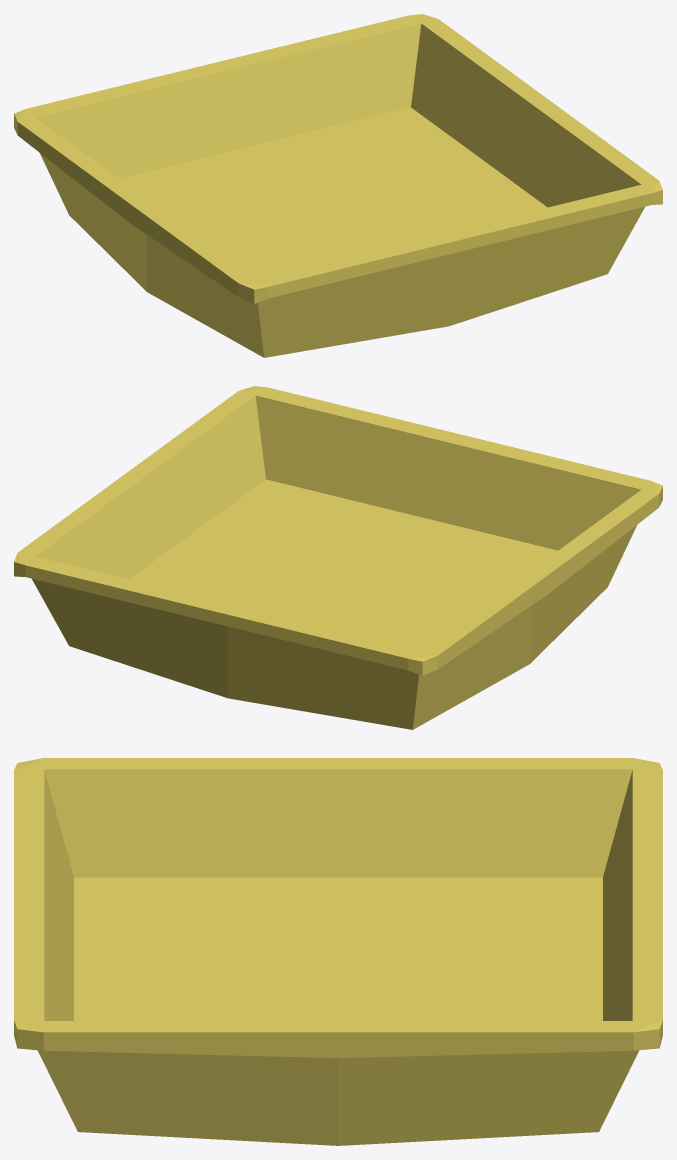
File: blekute.glb
The picture shows the model from 3 angles, top to bottom: view 1: azimuth 30°, elevation 25°; view 2: azimuth 150°, elevation 25°; view 3: azimuth 270°, elevation 25°; orthographic projection. The views are drawn at different scales.
Visible parts, largest first — view 1: Blekute; view 2: Blekute; view 3: Blekute.
Boxes of the visible parts, <box> form: Blekute: <box>14,14,662,357</box>; Blekute: <box>14,386,662,729</box>; Blekute: <box>14,758,662,1145</box>.
Size of the model in its own units: 1.03 by 0.2208 by 1.03.
